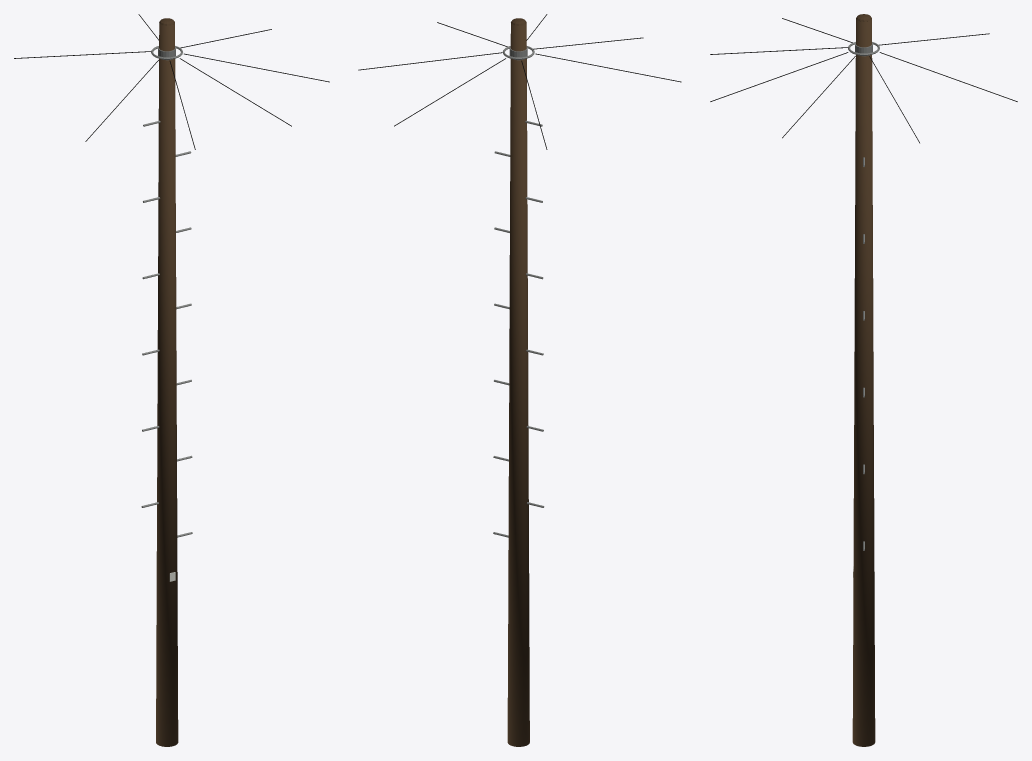
Rendered from telegraph-pole.glb.
3 renders of one model, left to right at view 1: azimuth 30°, elevation 25°; view 2: azimuth 150°, elevation 25°; view 3: azimuth 270°, elevation 25°, orthographic.
Parts seen in each view (by area): view 1: pole; view 2: pole; view 3: pole.
Part boxes in pixels (x1=…): pole: x1=14, y1=14, x2=329, y2=746; pole: x1=358, y1=14, x2=681, y2=746; pole: x1=710, y1=14, x2=1017, y2=746.
Size of the model in its own units: 3.15 by 8.53 by 3.28.
